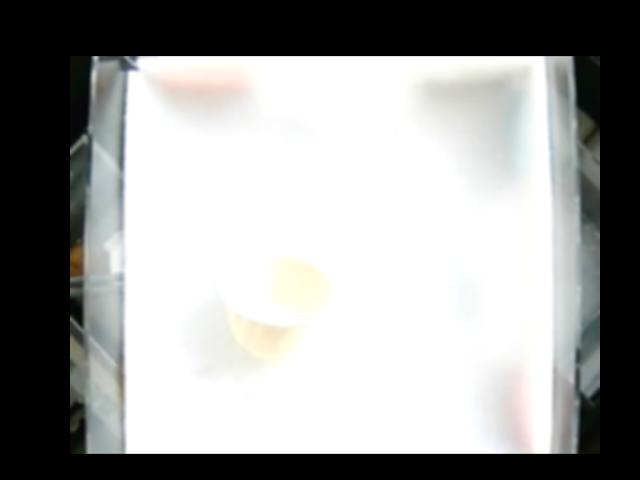Cup: (215, 248, 339, 357)
